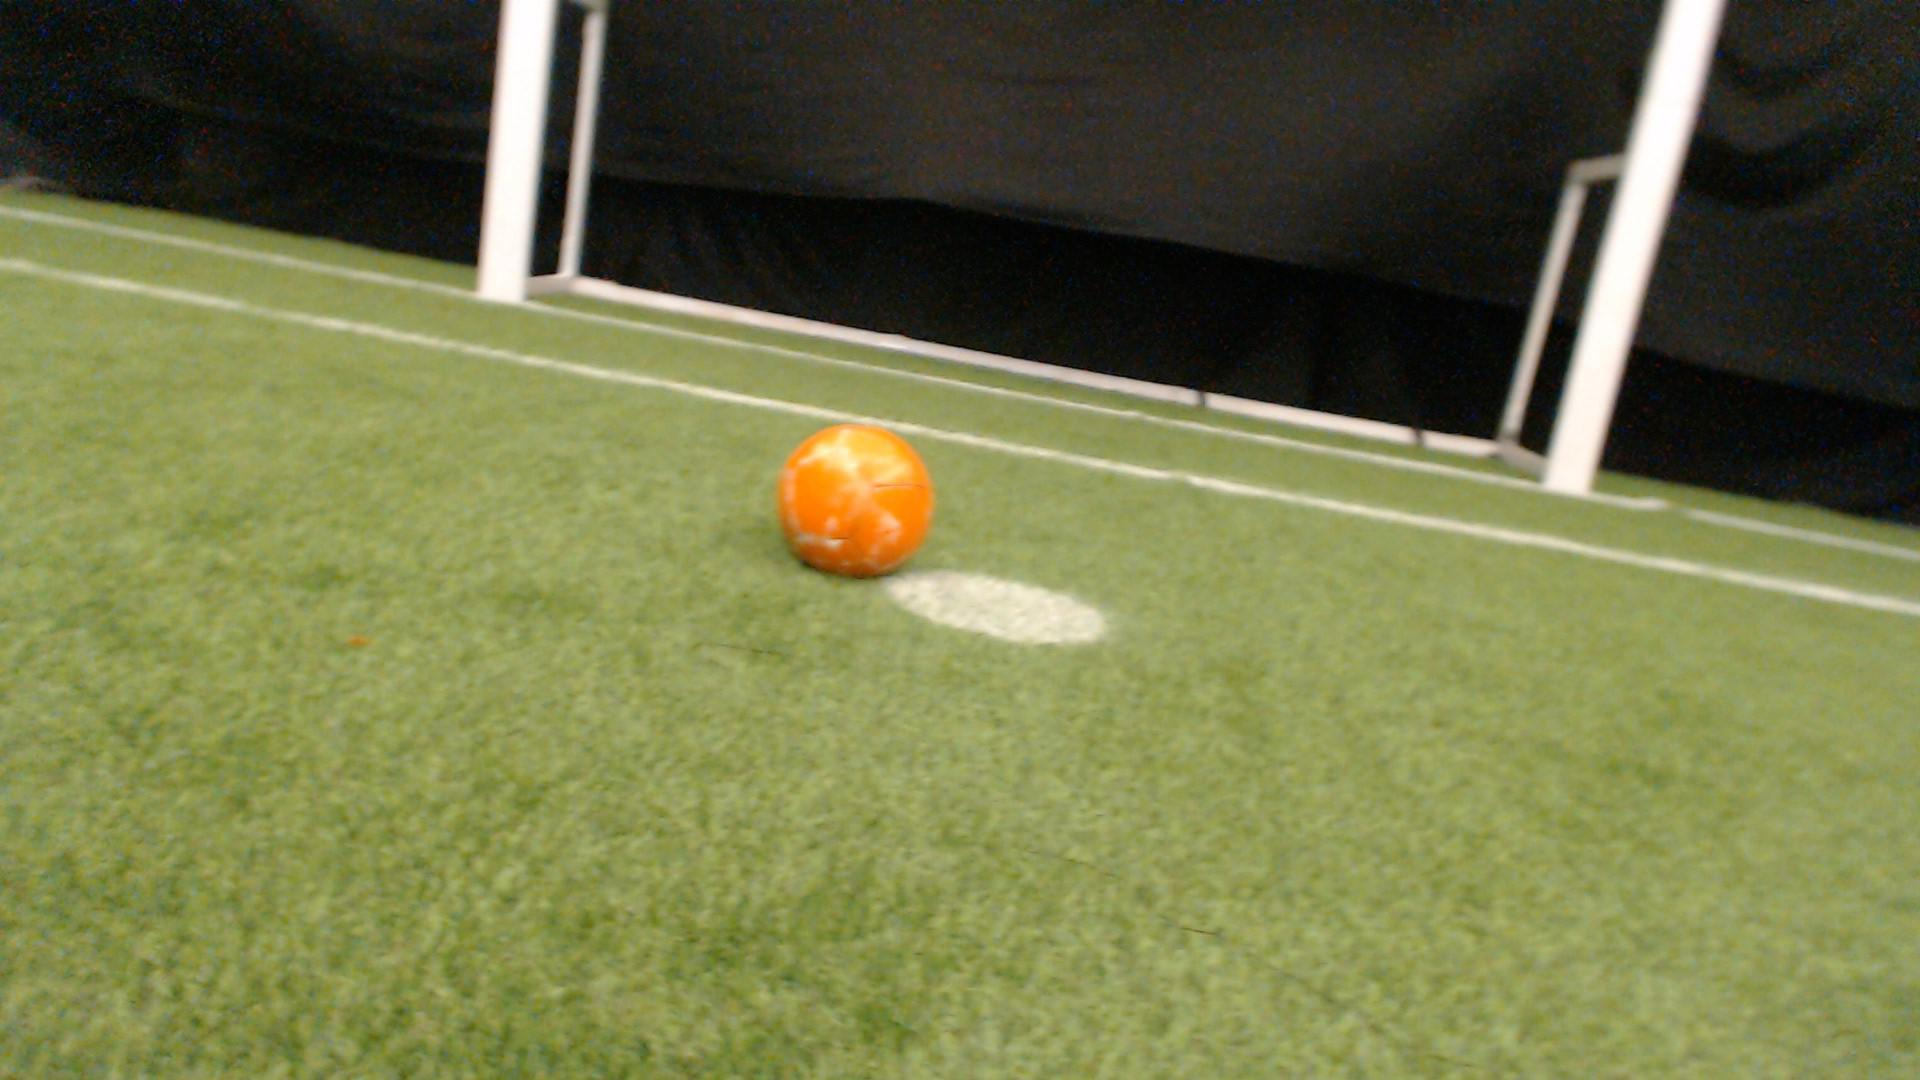bola: (758, 419, 952, 588)
